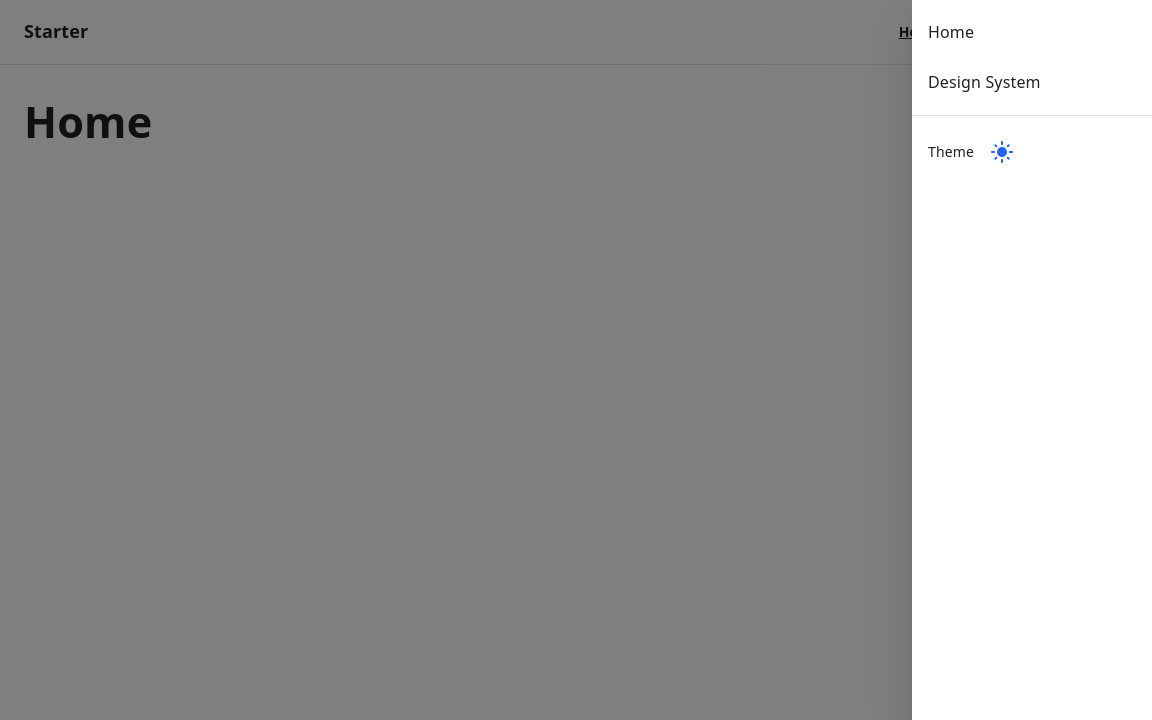
Scenario: Layout › opens the burger menu and navigates from it
Earlier steps of the test are not shown.
Step 1. Click the link "Design System" → x=984, y=82, box [928,71,1041,93]
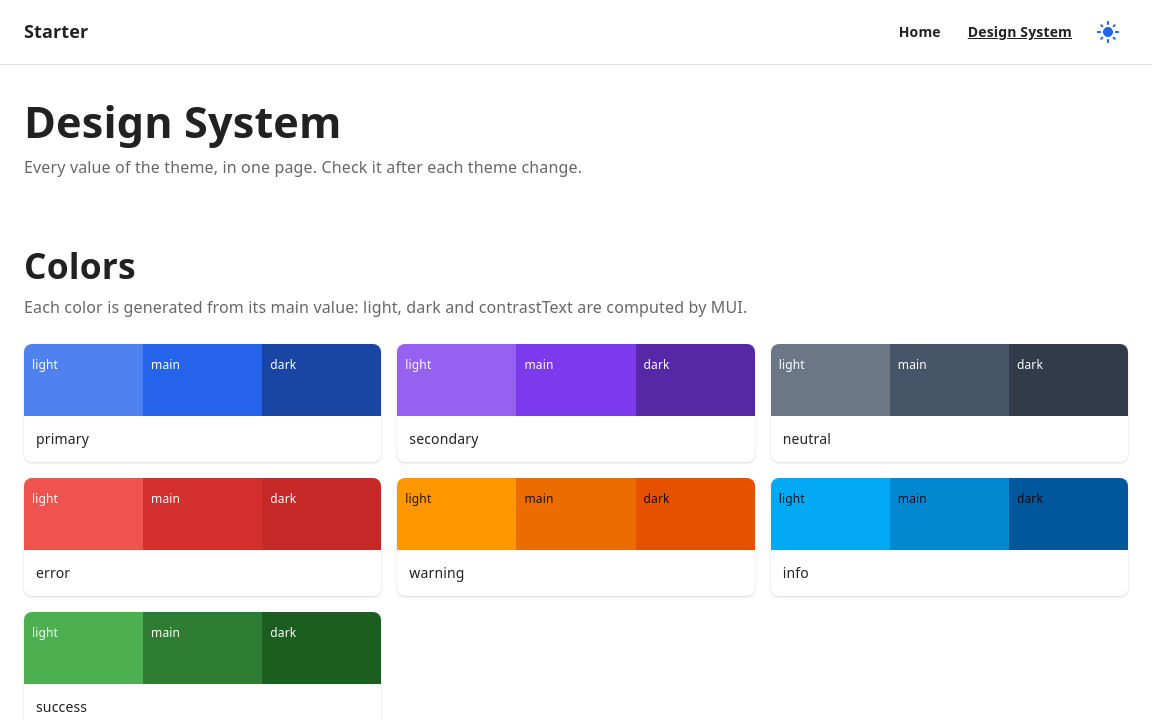
Check: the heading "Design System" is shown, box [24,92,342,151]
